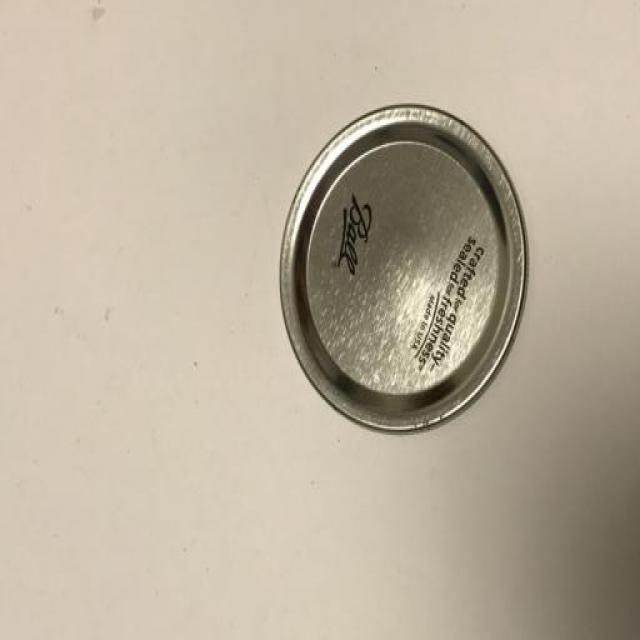metel: (261, 94, 533, 454)
